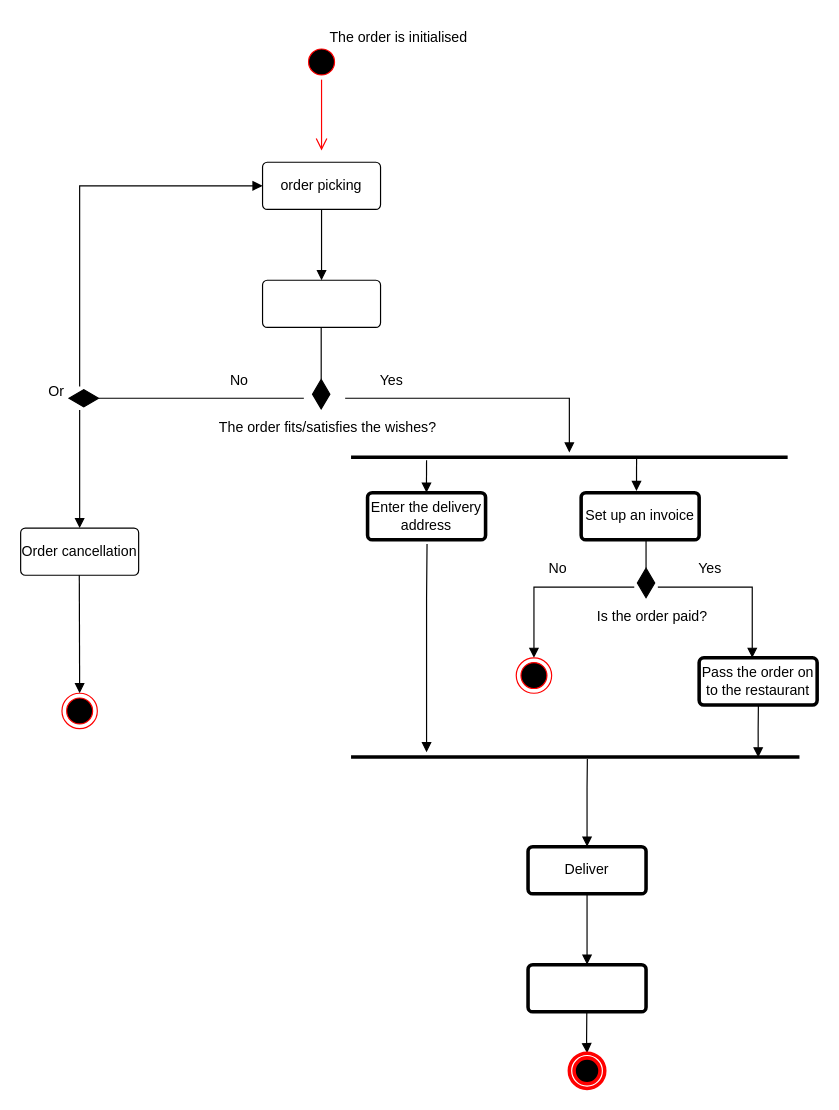
Image size: 839x1110. Some labels were removed from this diagram. Here are the shapes that lost their labels. From the top down, the centre of each, then its label:
(321,303): order formed
(586,987): Close the order
